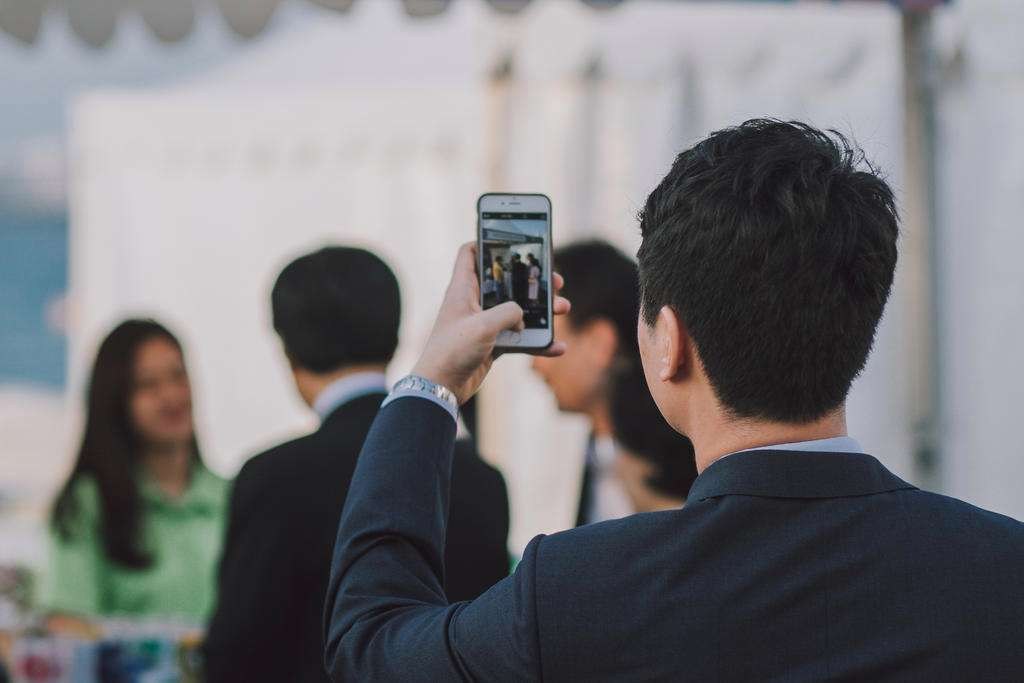taking photos: (411, 185, 575, 404)
